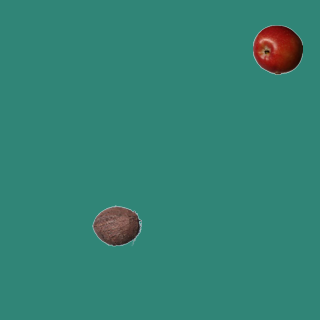Apple Braeburn: (252, 24, 302, 74)
Cocos: (91, 200, 141, 250)
